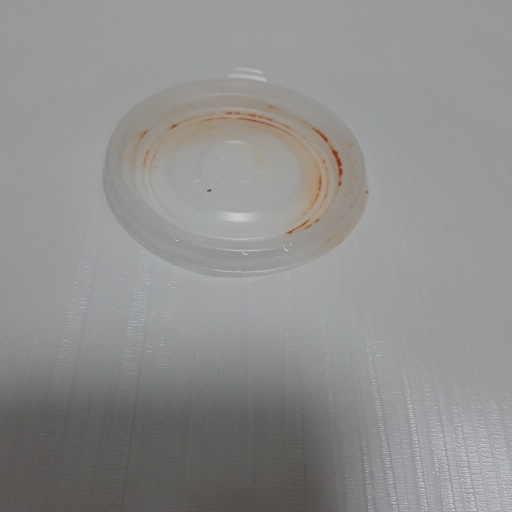Plastic_5: (98, 65, 369, 277)
